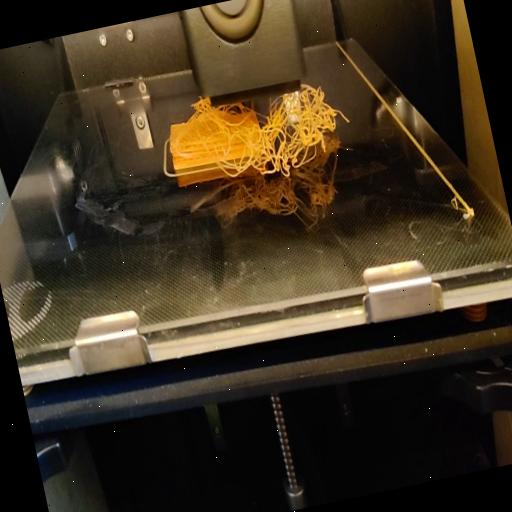spaghetti: (251, 75, 356, 178), (204, 96, 269, 186), (187, 94, 210, 111)
